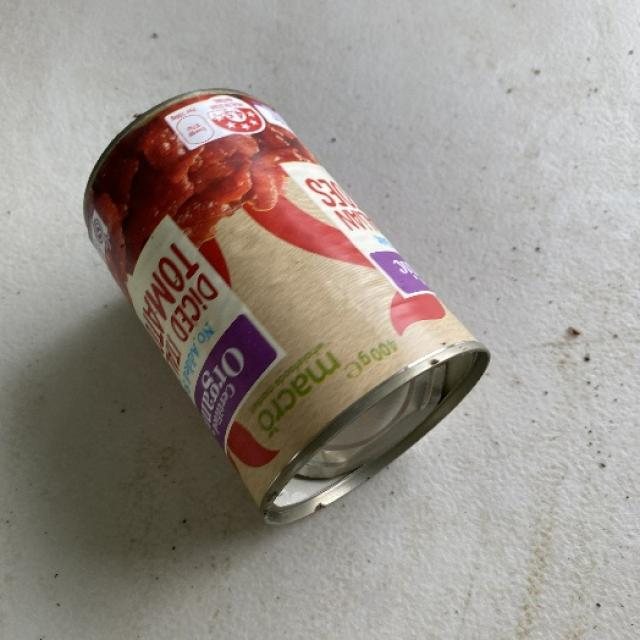metal: (82, 86, 491, 526)
